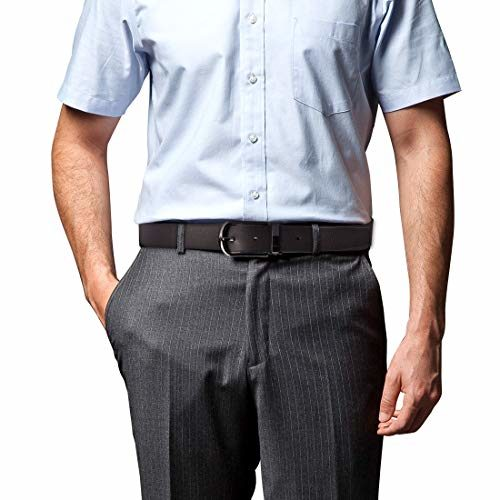F_belt: (133, 213, 383, 270)
F_dress pants: (108, 225, 387, 500)
F_shirt: (59, 2, 463, 223)
